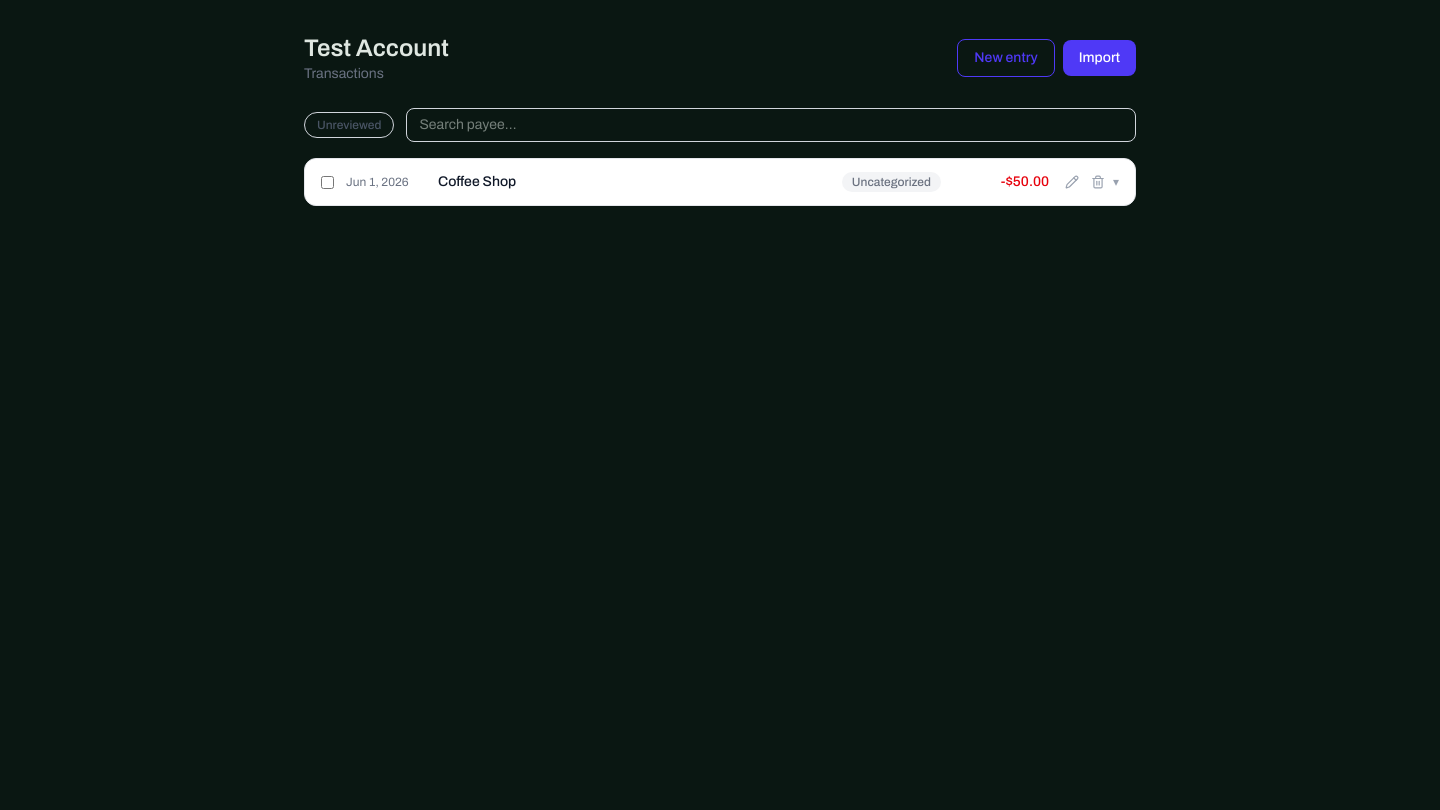
Test: Transactions — delete confirm › opens delete confirm dialog when trash icon is clicked
The width and height of the screenshot is (1440, 810).
Click the button titled "delete transaction".
click(1098, 182)  # box [1087,171,1109,193]
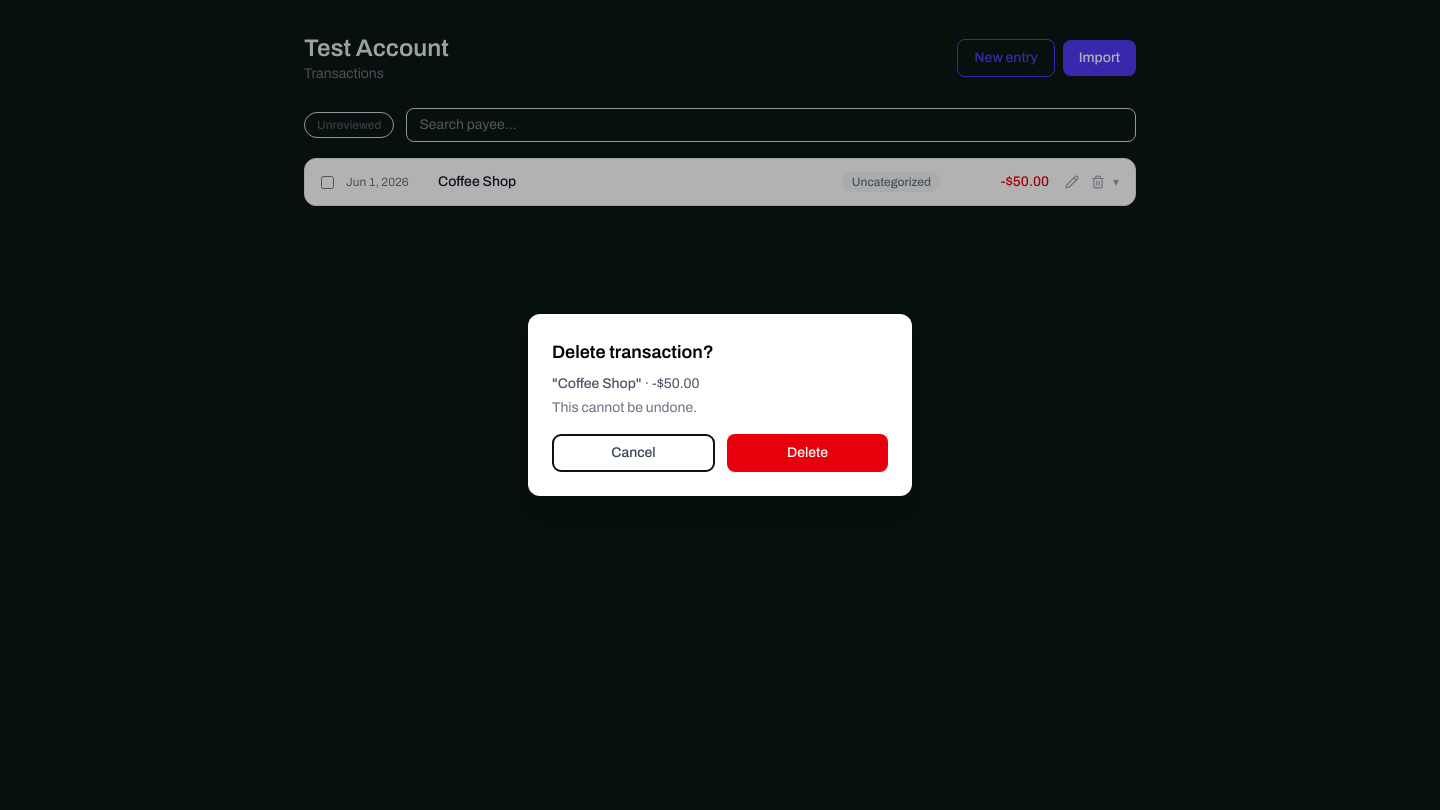
Expected: the heading "Delete transaction?" is shown, [552,342,714,362]
Expected: the text "This cannot be undone." is shown, [552,400,697,415]
